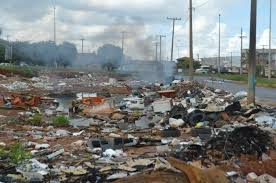rubble: (25, 73, 268, 165)
